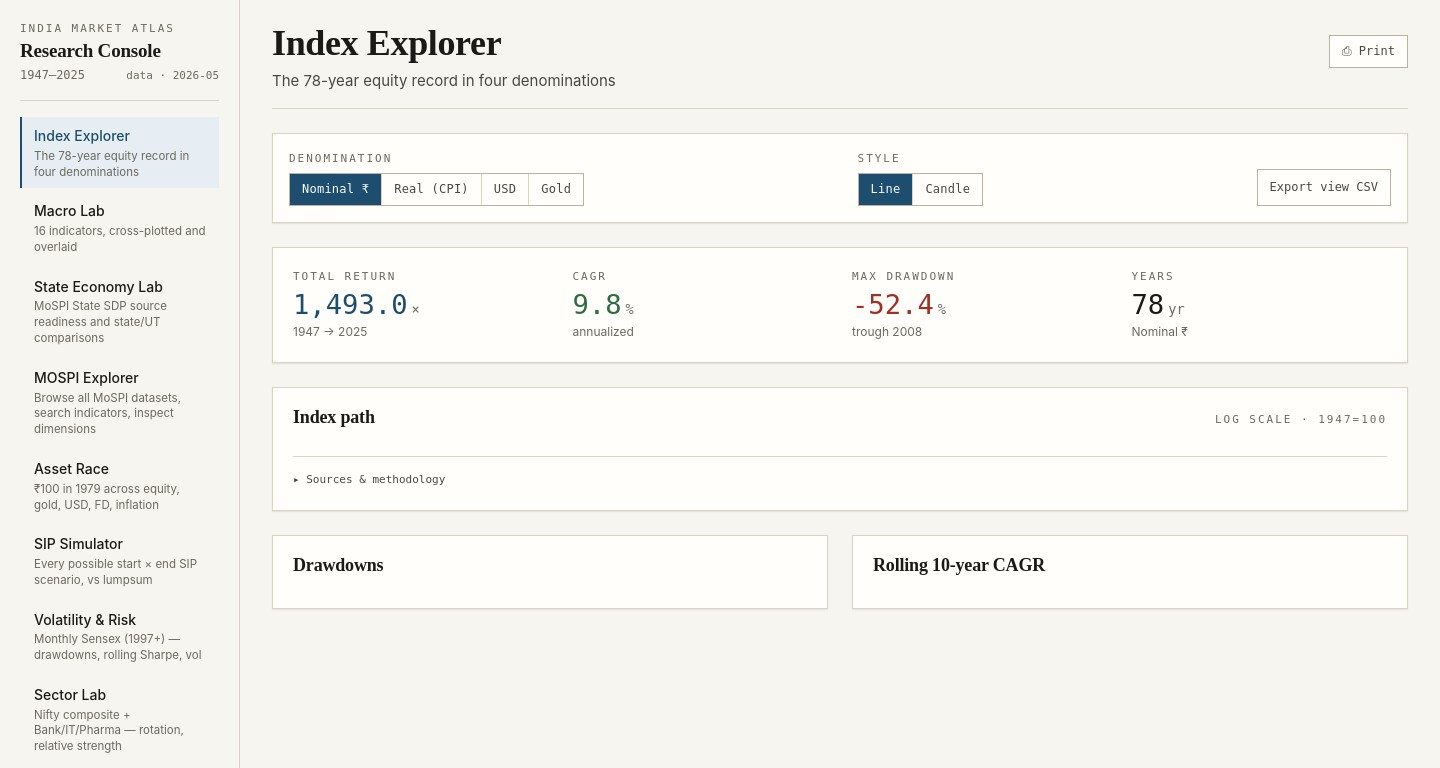
Test: Research Console shell › selecting a workspace updates the heading and the URL hash
The width and height of the screenshot is (1440, 768).
Step 1. Click the button "Macro Lab 16 indicators, cross-plotted and overlaid" → (120, 228), box [20,192,219,264]
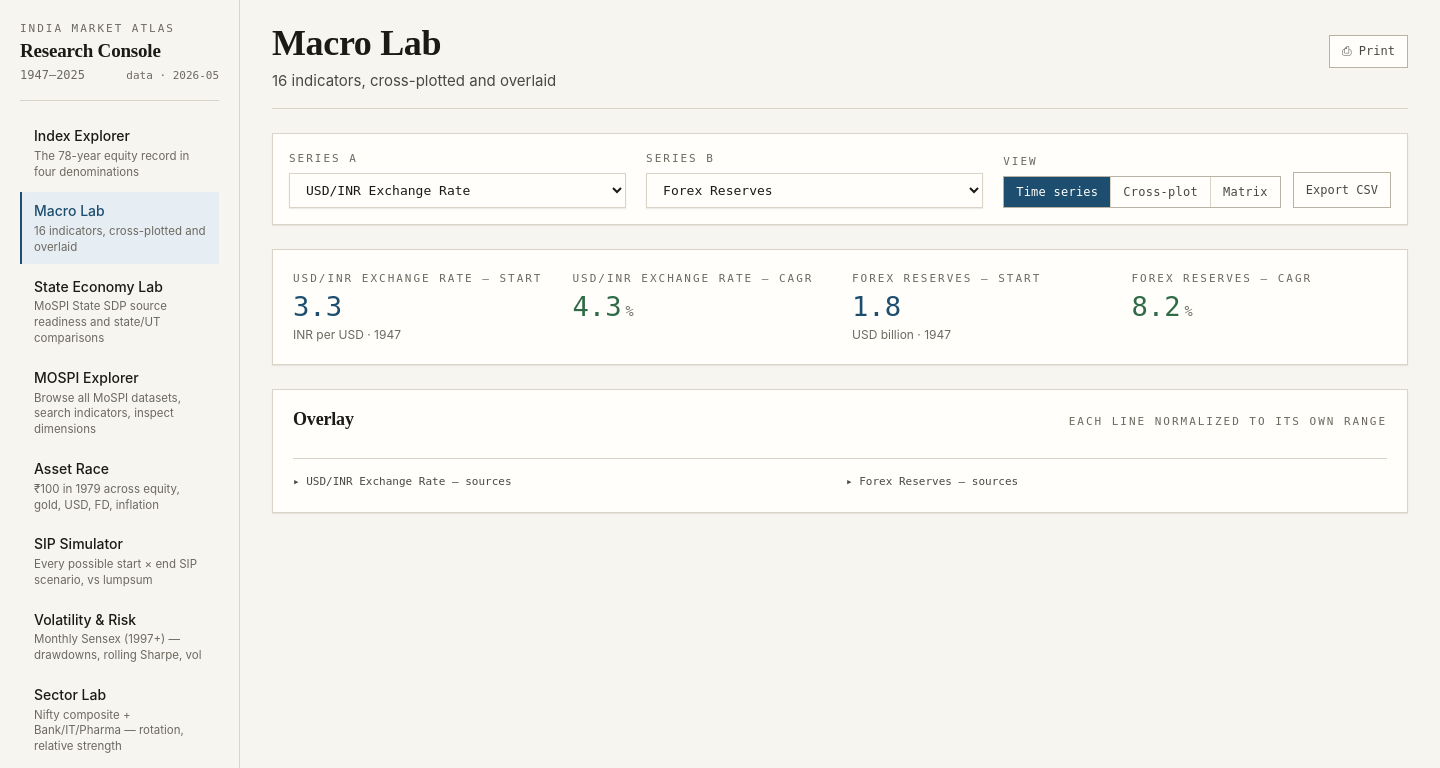
Check: the heading "Macro Lab" is shown, box [272,23,441,63]
